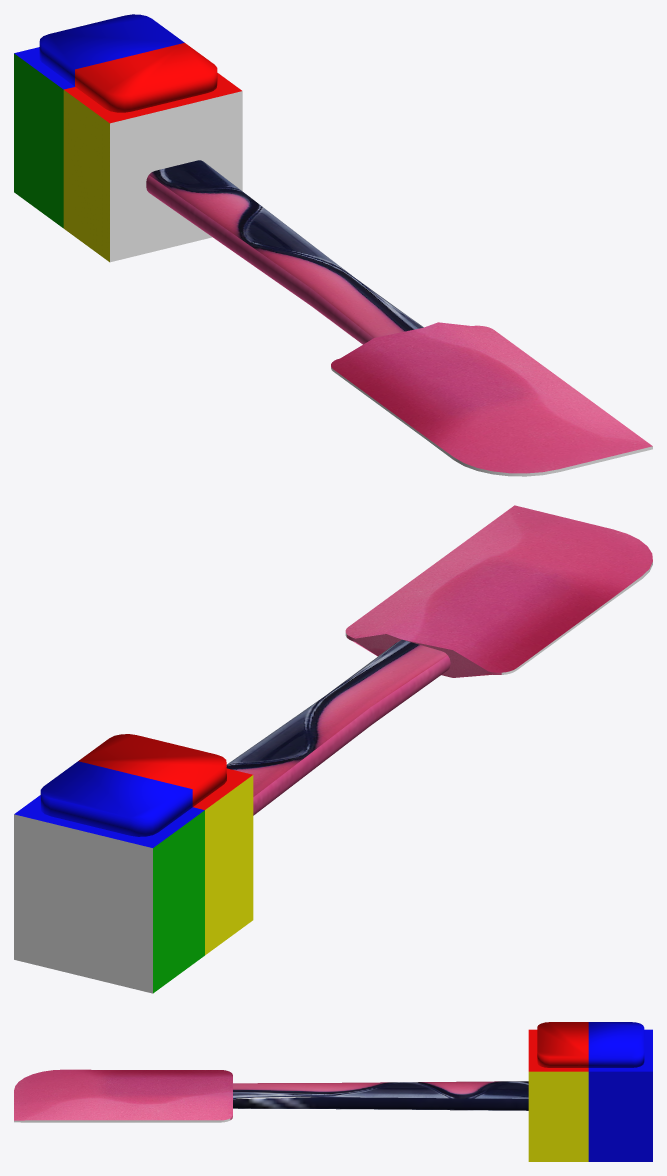
File: spatulapinkblack.obj
3 views of the same model, one above another, from view 1: azimuth 30°, elevation 25°; view 2: azimuth 150°, elevation 25°; view 3: azimuth 270°, elevation 25° (orthographic). The views are drawn at different scales.
Visible parts, largest first — view 1: Plane.027; view 2: Plane.027; view 3: Plane.027.
Boxes of the visible parts, box(x1,y1,x2,y2) form: Plane.027: box(14, 14, 652, 476); Plane.027: box(14, 505, 652, 993); Plane.027: box(14, 1022, 652, 1161).
Bounding box in the file's own units: 0.0484 × 0.045 × 0.2568.
